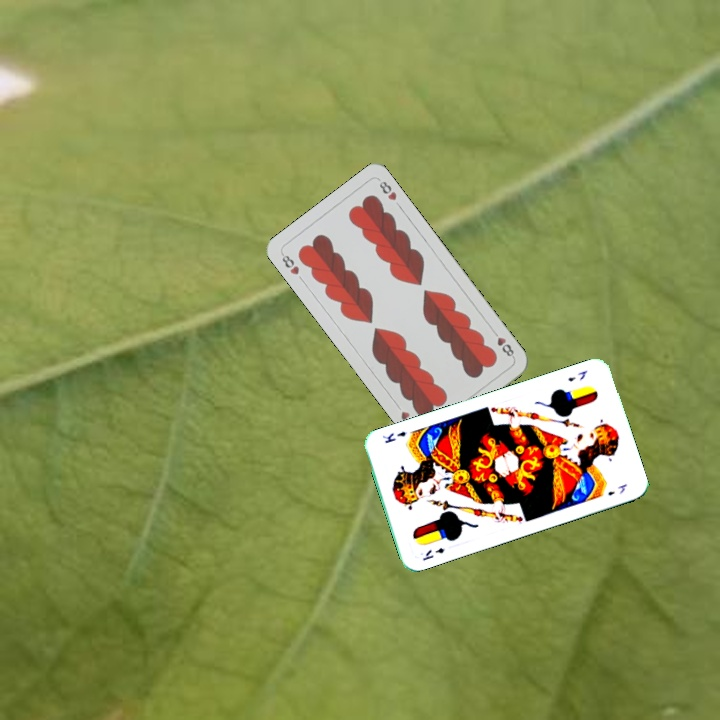EK: (419, 543, 447, 563), (564, 366, 590, 384)
H8: (488, 326, 517, 361), (277, 249, 302, 277)
